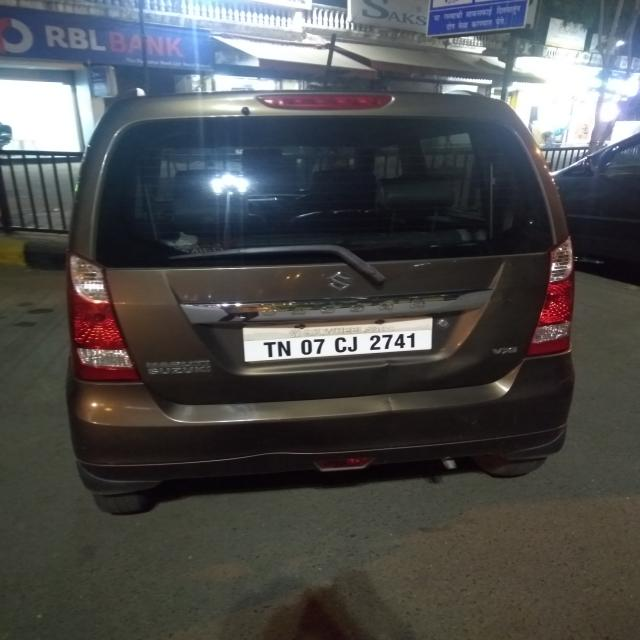Number-Plate: (245, 326, 432, 361)
